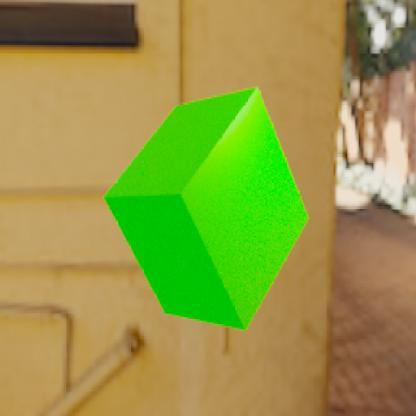cube: (102, 86, 309, 332)
